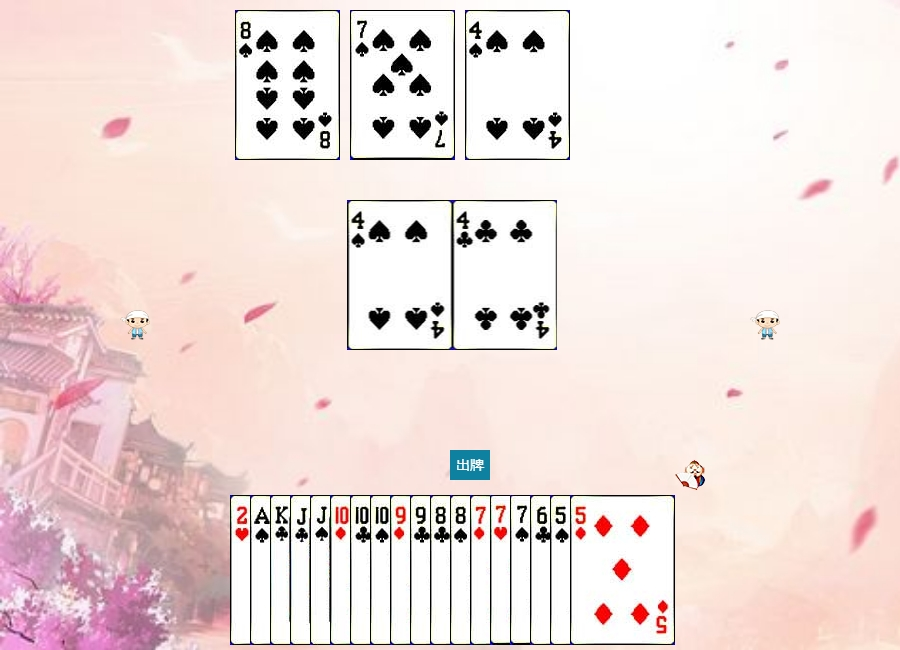10~1: (330, 495, 435, 645)
10~2: (350, 495, 455, 645)
10~4: (370, 495, 475, 645)
11~2: (290, 495, 395, 645)
11~4: (310, 495, 415, 645)
13~2: (270, 495, 375, 645)
14~4: (250, 495, 355, 645)
15~3: (230, 495, 335, 645)
4~2: (453, 200, 558, 350)
4~4: (465, 10, 570, 160), (348, 200, 453, 350)
5~1: (570, 495, 675, 645)
5~4: (550, 495, 655, 645)
6~2: (530, 495, 635, 645)
7~1: (470, 495, 575, 645)
7~3: (490, 495, 595, 645)
7~4: (350, 10, 455, 160), (510, 495, 615, 645)
8~2: (430, 495, 535, 645)
8~4: (235, 10, 340, 160), (450, 495, 555, 645)
9~1: (390, 495, 495, 645)
9~2: (410, 495, 515, 645)
